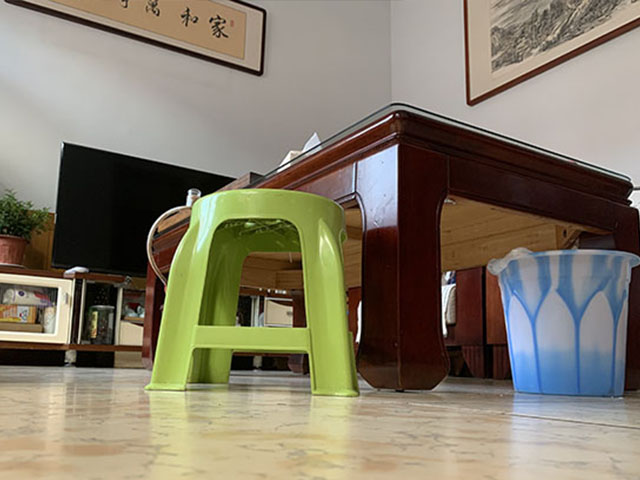cabinet: (1, 258, 142, 370)
stool: (143, 188, 362, 398)
table: (152, 103, 640, 394)
trashcan: (488, 246, 640, 398)
